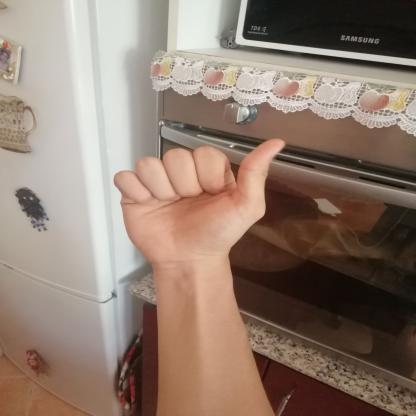DAD: (100, 127, 300, 274)
